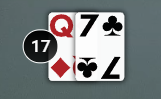7: (75, 11, 102, 39)
q: (48, 12, 76, 39)
